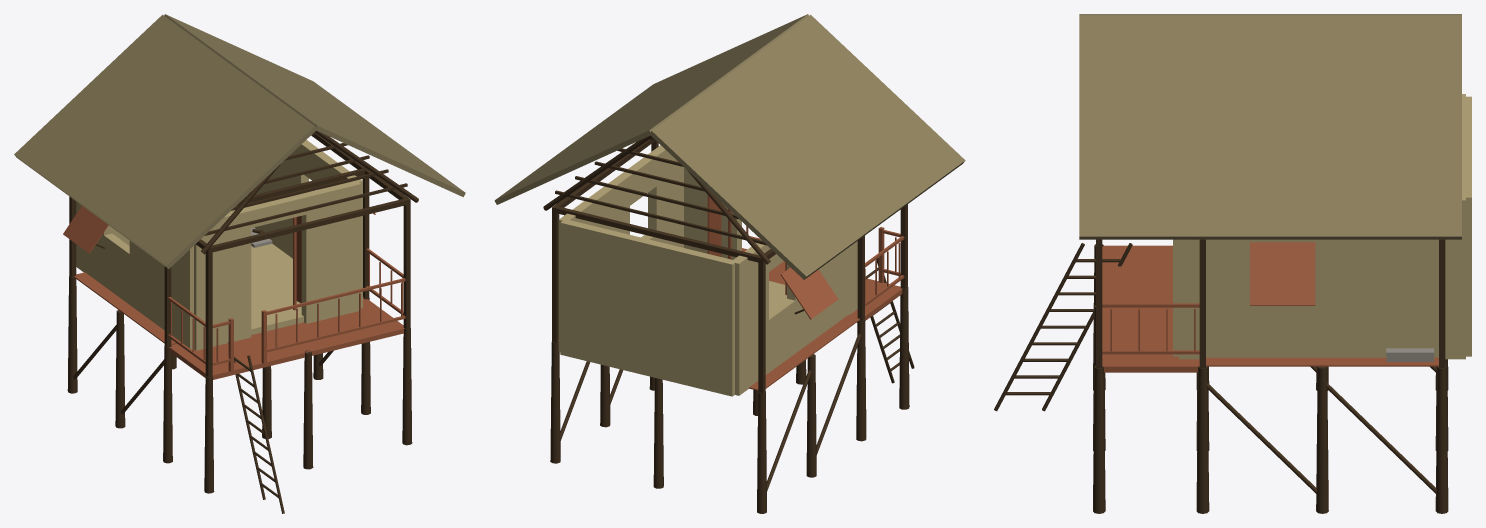
File: mekong-delta-stilt-house.glb
3 renders of one model, left to right at view 1: azimuth 30°, elevation 25°; view 2: azimuth 150°, elevation 25°; view 3: azimuth 270°, elevation 25°, orthographic. The views are drawn at different scales.
Parts seen in each view (by area): view 1: Mesh_RoofA, Mesh_RoofB, Mesh_HouseRoom_WallFront_L, Mesh_PorchFloor, Mesh_HouseRoom_WallFront_R, Mesh_HouseRoom_WallRight_R, Mesh_HouseRoom_Floor, Mesh_HouseRoom_WallRight_Sill, Mesh_HouseRoom_WallLeft_L, Mesh_PorchTopBeamF, Mesh_HouseFloor, Mesh_RightShutter (+23 smaller); view 2: Mesh_RoofA, Mesh_HouseRoom_WallBack, Mesh_RoofB, Mesh_HouseRoom_WallRight_L, Mesh_HouseRoom_WallRight_R, Mesh_HouseRoom_WallLeft_R, Mesh_HouseRoom_WallLeft_L, Mesh_HouseRoom_WallFront_L, Mesh_HouseRoom_WallRight_Sill, Mesh_WallBeamBack, Mesh_RightShutter, Mesh_HouseFloor (+21 smaller); view 3: Mesh_RoofB, Mesh_HouseRoom_WallLeft_L, Mesh_PorchFloor, Mesh_HouseRoom_WallLeft_R, Mesh_LeftShutter, Mesh_HouseRoom_WallLeft_Sill, Mesh_HouseFloor, Mesh_HouseRoom_WallBack, Mesh_Stilt_2, Mesh_Stilt_7, Mesh_StiltBase, Mesh_Stilt_4 (+10 smaller).
Part boxes in pixels (bbox=[...]): Mesh_RoofA: bbox=[14, 14, 316, 268]; Mesh_RoofB: bbox=[164, 14, 465, 197]; Mesh_HouseRoom_WallFront_L: bbox=[301, 180, 361, 323]; Mesh_PorchFloor: bbox=[169, 298, 404, 379]; Mesh_HouseRoom_WallFront_R: bbox=[194, 207, 251, 350]; Mesh_HouseRoom_WallRight_R: bbox=[129, 241, 193, 349]; Mesh_HouseRoom_Floor: bbox=[251, 243, 303, 334]; Mesh_HouseRoom_WallRight_Sill: bbox=[103, 233, 130, 304]; Mesh_HouseRoom_WallLeft_L: bbox=[245, 140, 308, 258]; Mesh_PorchTopBeamF: bbox=[208, 198, 410, 253]; Mesh_HouseFloor: bbox=[74, 272, 363, 345]; Mesh_RightShutter: bbox=[63, 206, 108, 253]; Mesh_RoofA: bbox=[649, 14, 965, 279]; Mesh_HouseRoom_WallBack: bbox=[560, 220, 736, 396]; Mesh_RoofB: bbox=[494, 14, 808, 204]; Mesh_HouseRoom_WallRight_L: bbox=[731, 243, 768, 395]; Mesh_HouseRoom_WallRight_R: bbox=[787, 241, 857, 352]; Mesh_HouseRoom_WallLeft_R: bbox=[648, 145, 683, 247]; Mesh_HouseRoom_WallLeft_L: bbox=[558, 174, 629, 351]; Mesh_HouseRoom_WallFront_L: bbox=[684, 167, 741, 259]; Mesh_HouseRoom_WallRight_Sill: bbox=[768, 298, 795, 372]; Mesh_WallBeamBack: bbox=[552, 206, 764, 263]; Mesh_RightShutter: bbox=[780, 267, 838, 319]; Mesh_HouseFloor: bbox=[558, 315, 859, 390]; Mesh_RoofB: bbox=[1079, 15, 1461, 239]; Mesh_HouseRoom_WallLeft_L: bbox=[1314, 195, 1465, 359]; Mesh_PorchFloor: bbox=[1102, 245, 1199, 372]; Mesh_HouseRoom_WallLeft_R: bbox=[1179, 239, 1250, 359]; Mesh_LeftShutter: bbox=[1250, 242, 1315, 305]; Mesh_HouseRoom_WallLeft_Sill: bbox=[1249, 295, 1315, 357]; Mesh_HouseFloor: bbox=[1206, 357, 1438, 366]; Mesh_HouseRoom_WallBack: bbox=[1462, 96, 1471, 356]; Mesh_Stilt_2: bbox=[1316, 366, 1328, 513]; Mesh_Stilt_7: bbox=[1093, 365, 1105, 513]; Mesh_StiltBase: bbox=[1435, 365, 1448, 513]; Mesh_Stilt_4: bbox=[1196, 366, 1209, 513].
Bounding box in the file's own units: 5.44 × 6.04 × 5.99.
3 materials, 3 textured.
